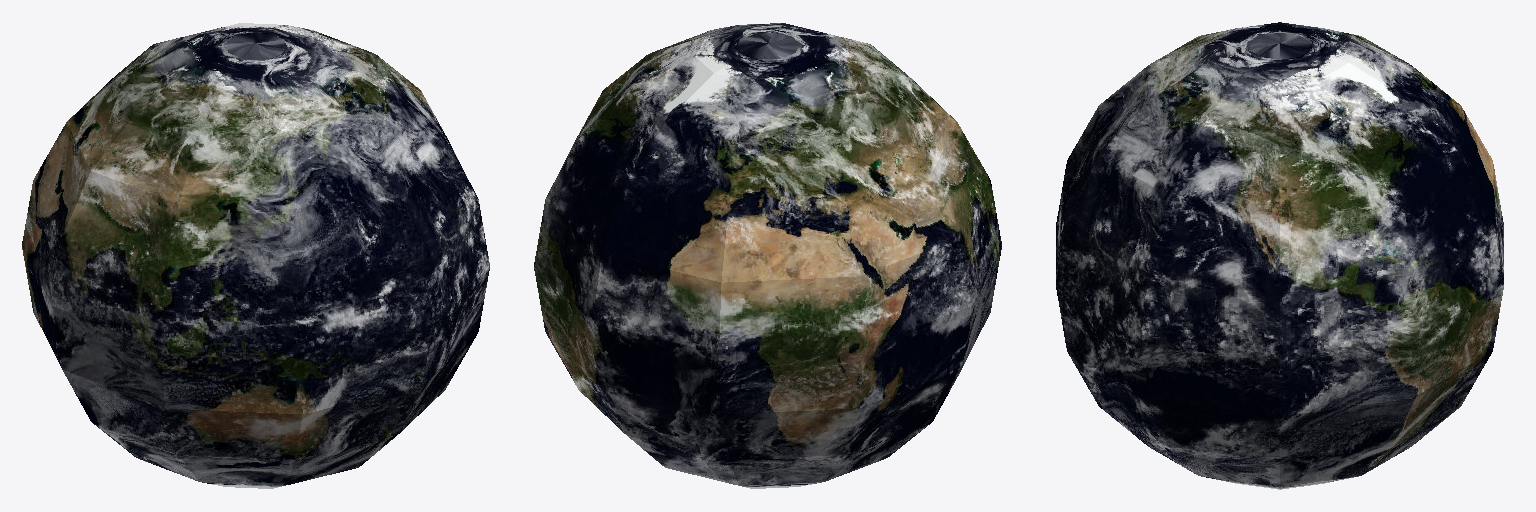
3 renders of one model, left to right at view 1: azimuth 30°, elevation 25°; view 2: azimuth 150°, elevation 25°; view 3: azimuth 270°, elevation 25°, orthographic.
Parts seen in each view (by area): view 1: Sphere; view 2: Sphere; view 3: Sphere.
Boxes of the visible parts, <box> form: Sphere: <box>22,23,489,488</box>; Sphere: <box>534,23,1001,488</box>; Sphere: <box>1056,22,1503,489</box>.
Size of the model in its own units: 2 by 1.99 by 1.9.
Materials: 1 (1 with a texture image).